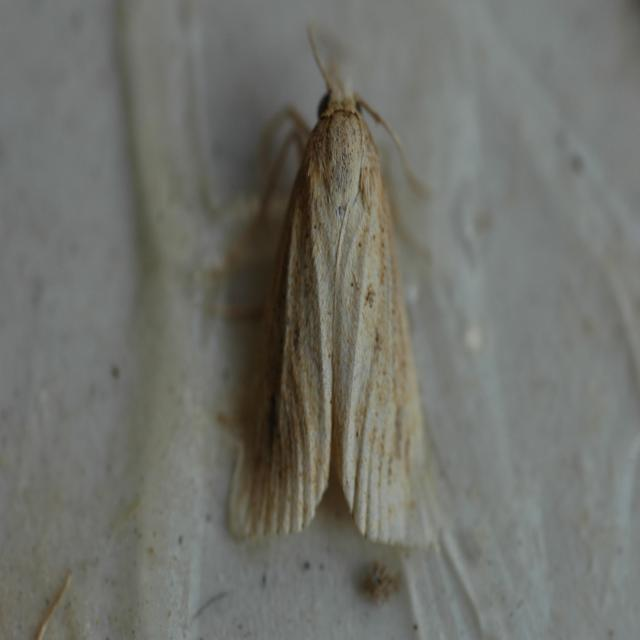yellow-stem-borer: (178, 10, 486, 567)
